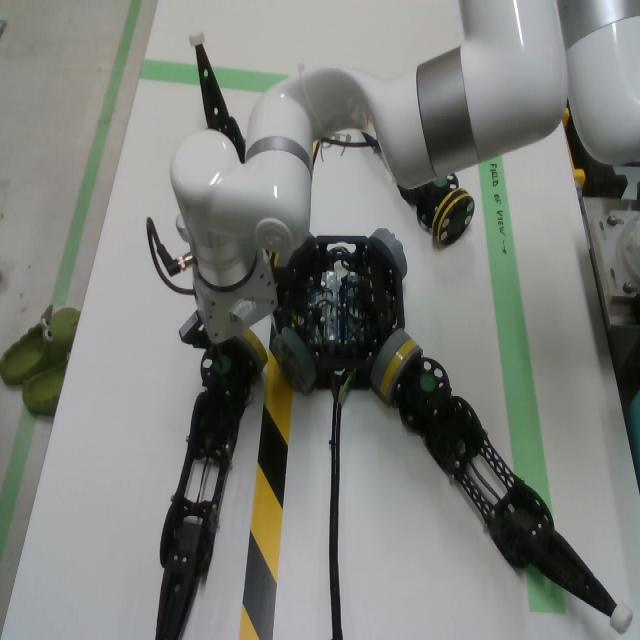body: (279, 236, 405, 389)
body_connector: (272, 327, 317, 396), (370, 329, 411, 391), (370, 228, 408, 280), (278, 233, 313, 267)
gripper: (179, 248, 298, 368)
leg: (380, 337, 634, 633), (155, 328, 269, 640), (189, 32, 245, 164), (396, 173, 475, 245), (360, 131, 381, 153)
leg_connector: (379, 340, 423, 401), (432, 188, 475, 245), (235, 329, 268, 373), (266, 251, 279, 268)
leg_marker: (213, 356, 230, 375), (420, 373, 435, 391), (434, 177, 446, 187)
